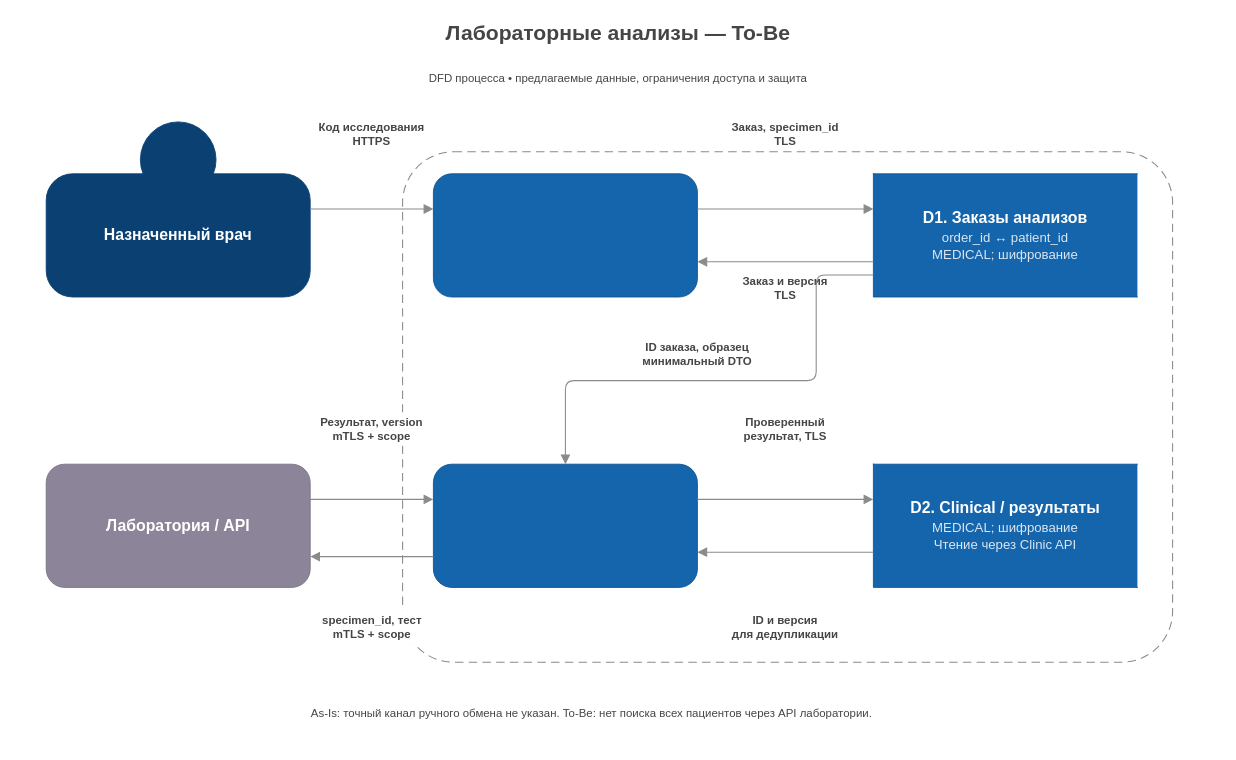
Image size: 1236x760. Some labels were removed from this diagram. The shapes that lost their labels are listed below. From the top down, each one's box as (x1, y1, x2, y2) in pixels, then its label:
(433, 173, 697, 297): P1. Создать lab_order Минимальный контракт Аудит, RBAC + ABAC
(402, 151, 1173, 662): МЕДИКАМЕНТЕ [Процесс и данные]
(433, 463, 697, 587): P2. Lab adapter Проверить партнёра и заказ Дедупликация результата
